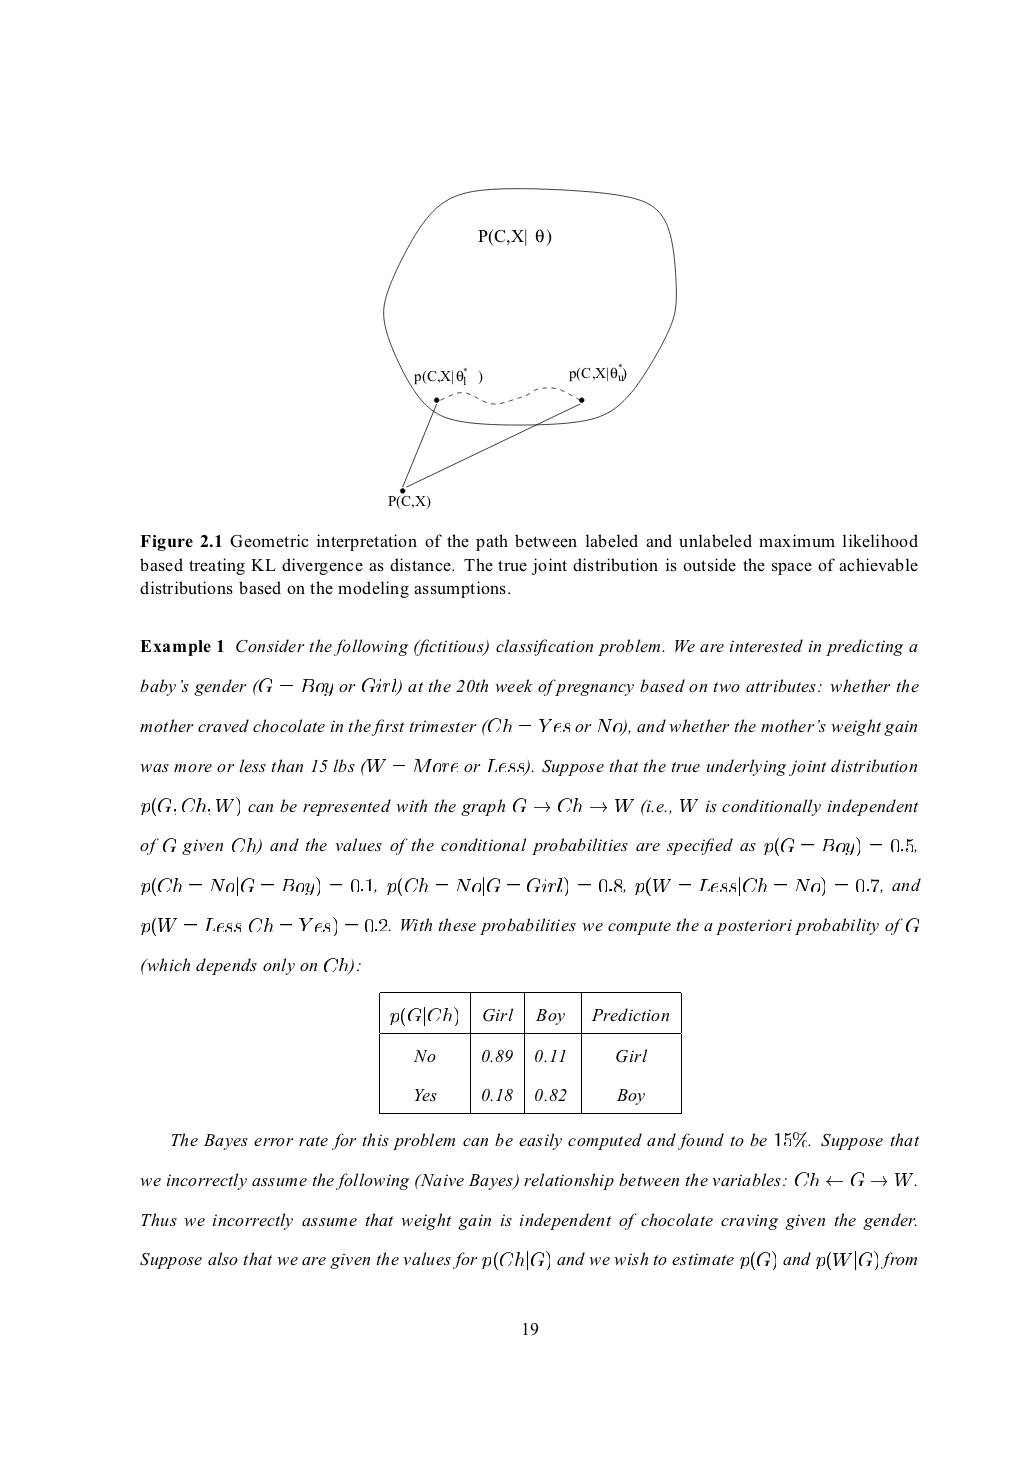Table: (379, 991, 681, 1114)
figure: (383, 187, 676, 509)
